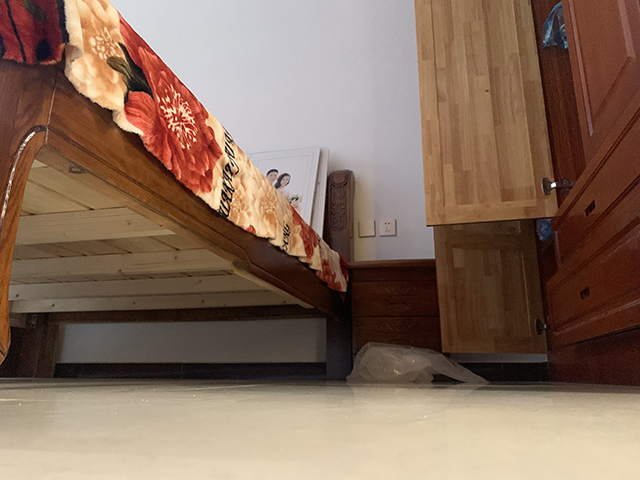bed: (1, 1, 356, 381)
cabinet: (414, 5, 630, 387)
